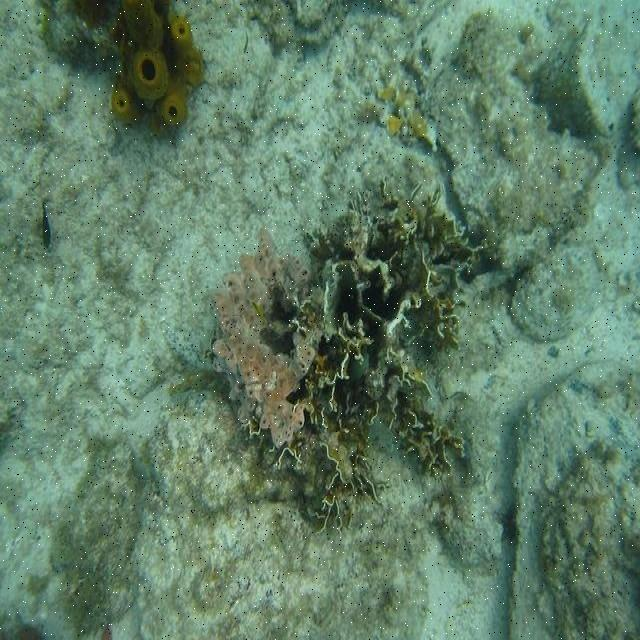reefs: (209, 179, 492, 533), (112, 0, 207, 128)
sea-floor: (511, 362, 638, 637)
